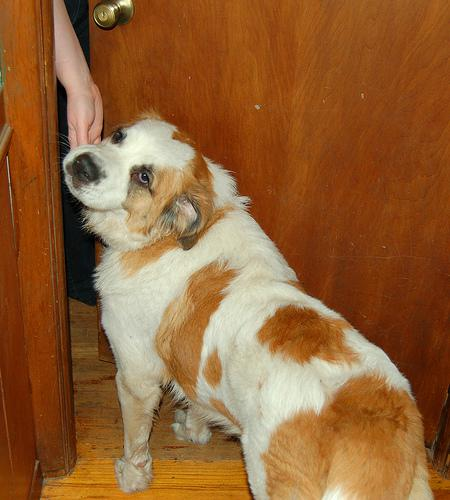dog-saint_bernard: (62, 110, 213, 249)
